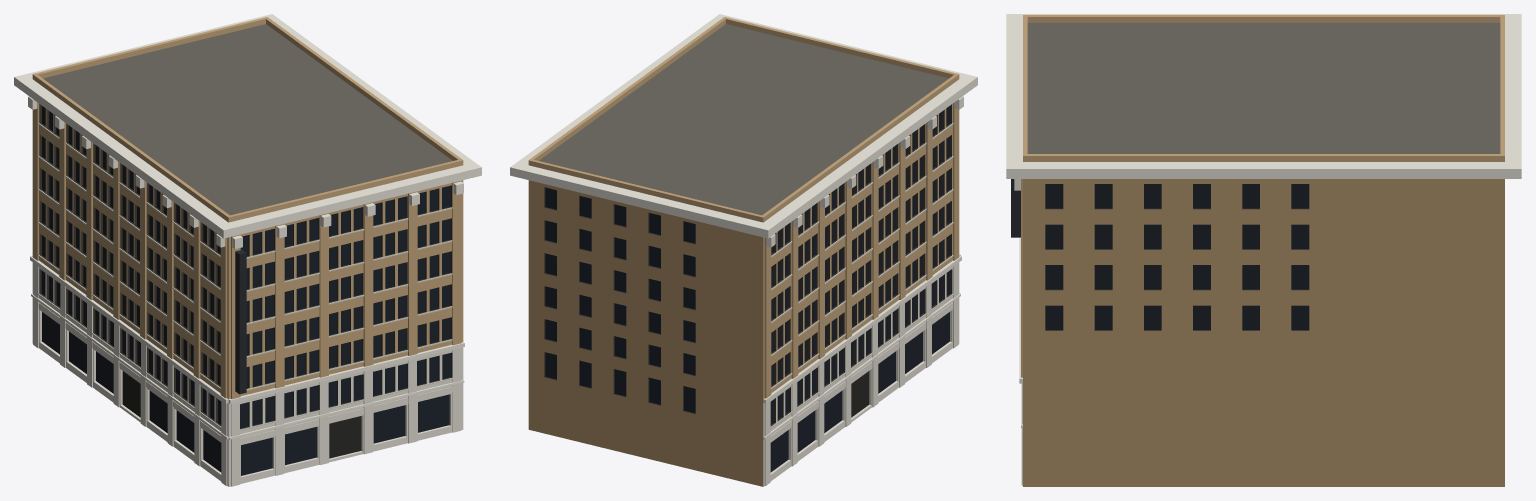
Rendered from gus-blass-co-department-store.glb.
The picture shows the model from 3 angles, left to right: view 1: azimuth 30°, elevation 25°; view 2: azimuth 150°, elevation 25°; view 3: azimuth 270°, elevation 25°; orthographic projection. The views are drawn at different scales.
Visible parts, largest first — view 1: gus_brick, gus_roof, gus_glass, gus_stone, gus_trim, gus_sash, gus_trim2, gus_dark, gus_sign; view 2: gus_brick2, gus_roof, gus_brick, gus_glass, gus_trim, gus_sash, gus_stone, gus_trim2, gus_dark; view 3: gus_brick2, gus_roof, gus_trim, gus_glass, gus_brick, gus_sash.
Part boxes in pixels (bbox=[...]): gus_brick: bbox=[32, 17, 463, 399]; gus_roof: bbox=[43, 24, 452, 215]; gus_glass: bbox=[41, 106, 451, 475]; gus_stone: bbox=[32, 262, 463, 486]; gus_trim: bbox=[14, 14, 481, 439]; gus_sash: bbox=[39, 104, 452, 429]; gus_trim2: bbox=[38, 123, 453, 430]; gus_dark: bbox=[122, 371, 361, 458]; gus_sign: bbox=[235, 249, 246, 394]; gus_brick2: bbox=[528, 180, 763, 486]; gus_roof: bbox=[539, 24, 948, 215]; gus_brick: bbox=[528, 17, 959, 398]; gus_glass: bbox=[545, 106, 950, 472]; gus_trim: bbox=[510, 14, 977, 439]; gus_sash: bbox=[544, 104, 952, 426]; gus_stone: bbox=[763, 262, 959, 486]; gus_trim2: bbox=[770, 123, 953, 428]; gus_dark: bbox=[851, 371, 869, 417]; gus_brick2: bbox=[1023, 179, 1504, 486]; gus_roof: bbox=[1027, 23, 1500, 153]; gus_trim: bbox=[1006, 14, 1521, 428]; gus_glass: bbox=[1045, 184, 1309, 329]; gus_brick: bbox=[1021, 15, 1504, 377]; gus_sash: bbox=[1045, 208, 1309, 330].
Size of the model in its own units: 32.8 by 32.7 by 46.1.
